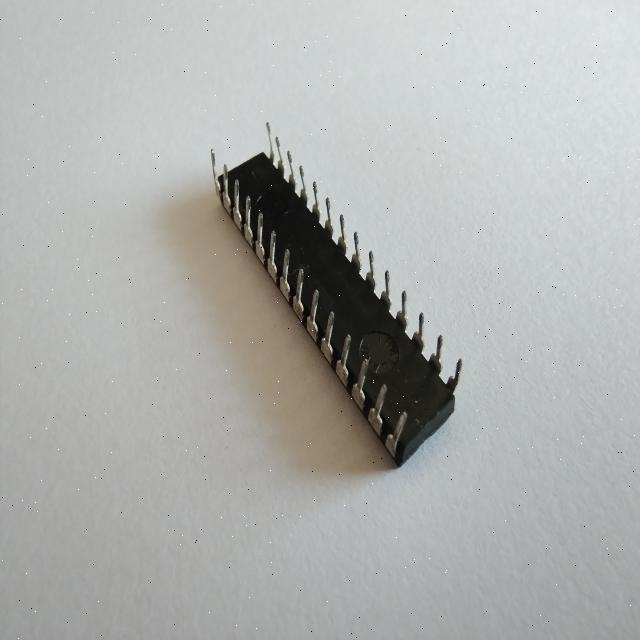atmega: (207, 120, 464, 469)
